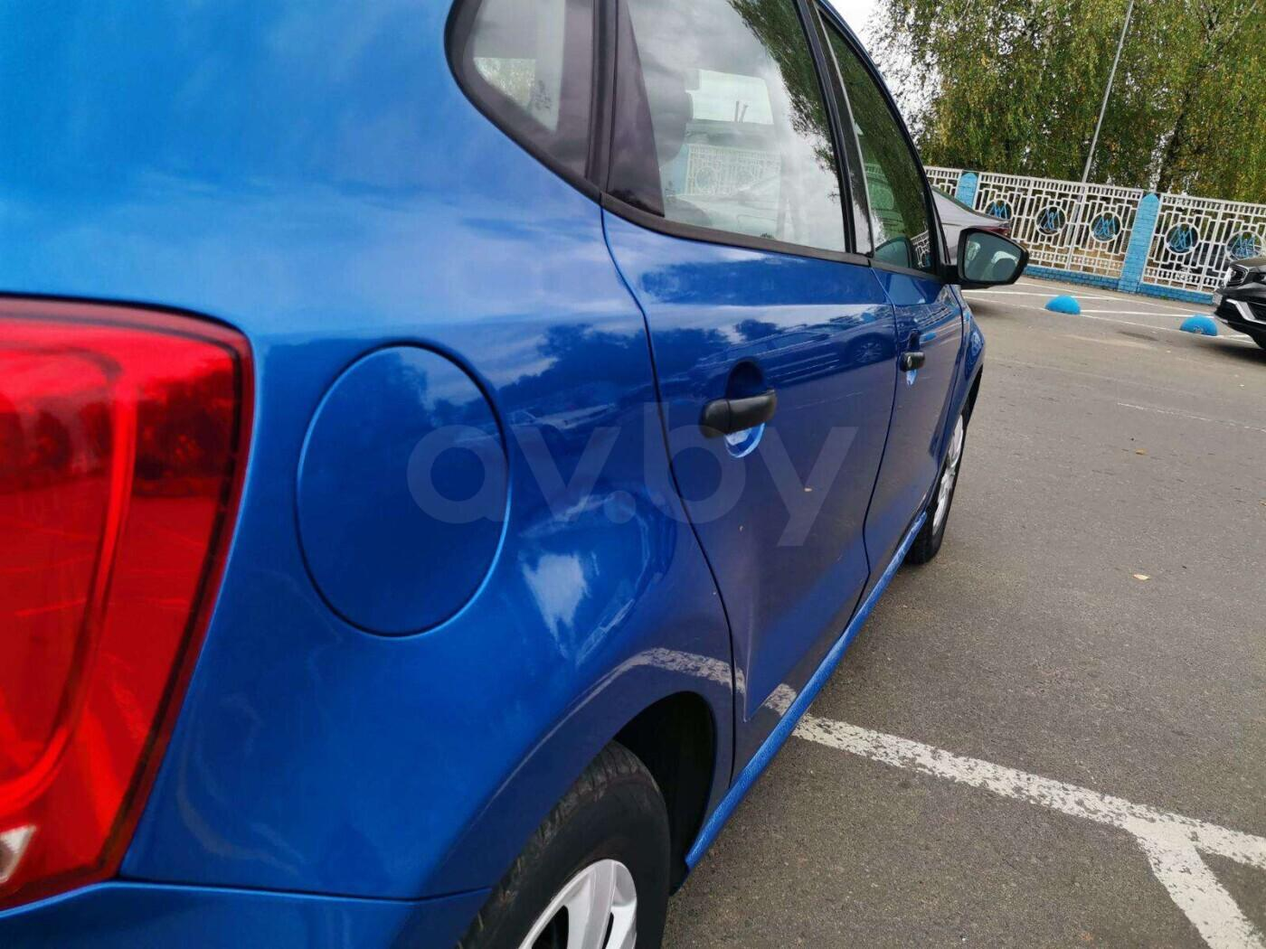Polo_2009-2015: (0, 0, 1022, 949)
